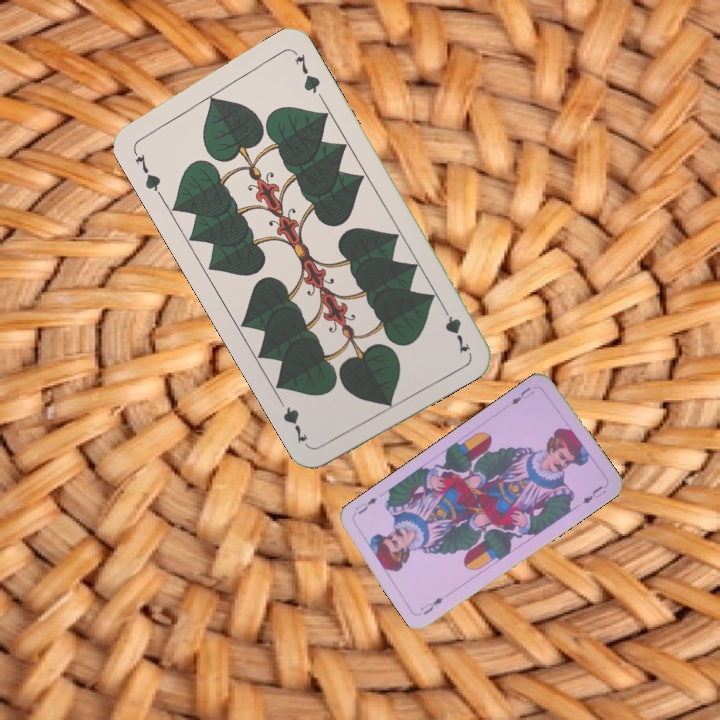EU: (506, 383, 537, 407), (417, 593, 446, 618)
G7: (437, 300, 473, 357), (129, 144, 164, 199)
